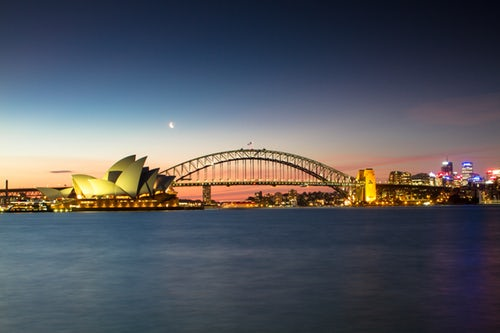opera house: (28, 145, 195, 217)
